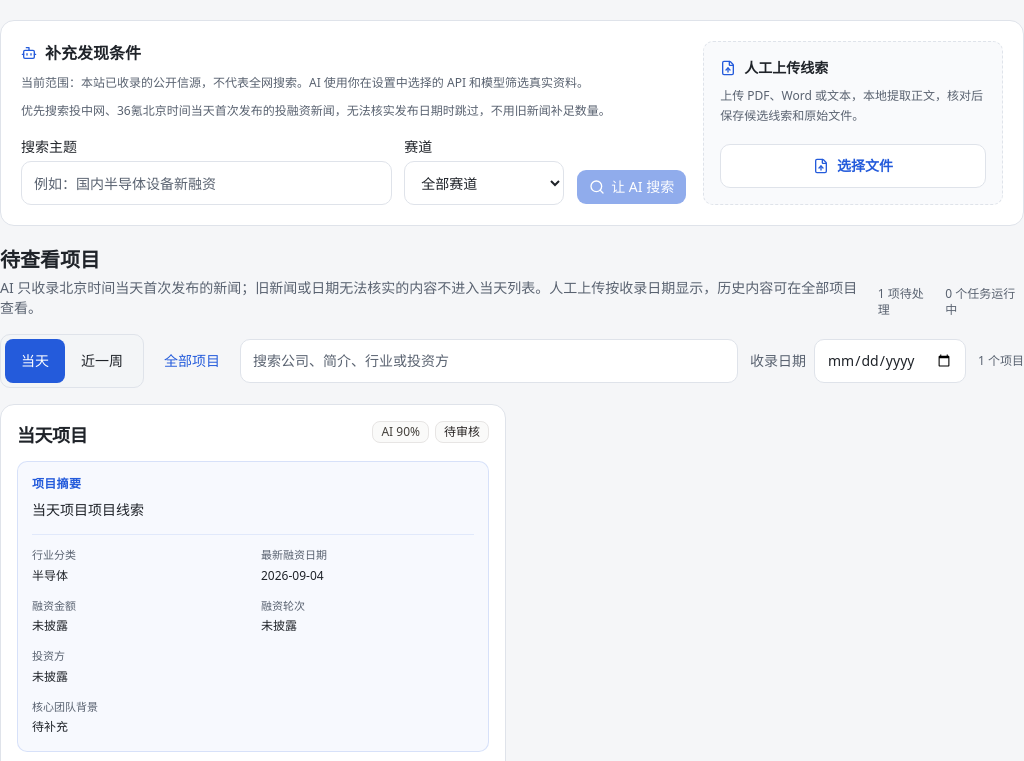
Test: shows the inclusive recent seven Shanghai calendar days
The width and height of the screenshot is (1024, 761).
Click the button "近一周" at [102, 361], box top-left (65, 339), bottom-right (139, 383)
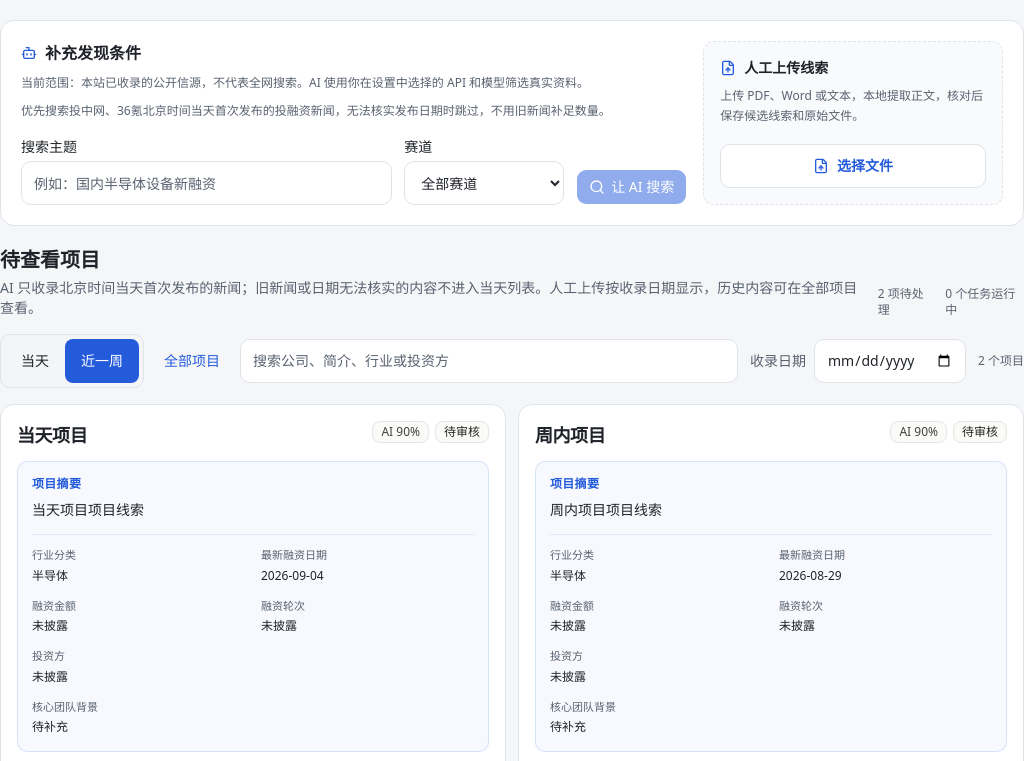
Now the heading "周内项目" is shown, box top-left (535, 421), bottom-right (605, 449)
